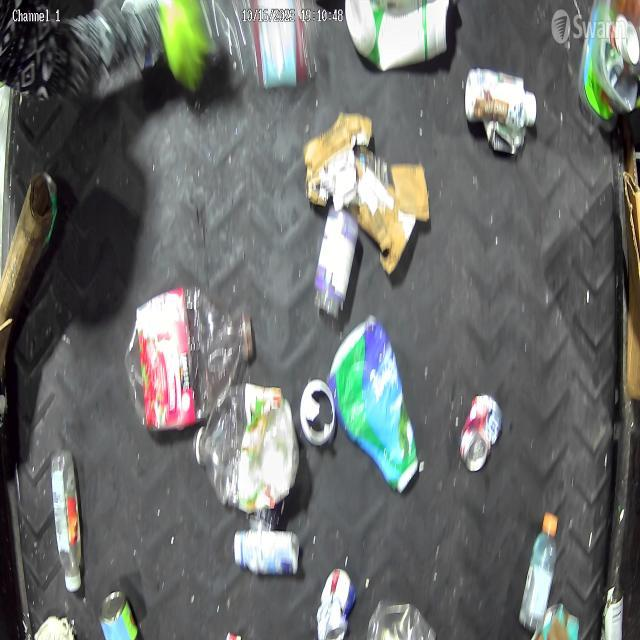can: (458, 391, 504, 473), (316, 565, 358, 640), (299, 377, 339, 450), (96, 586, 140, 640), (602, 582, 624, 640)
non_white_jug: (326, 314, 419, 494), (344, 0, 451, 74)
plastic_bottle: (122, 279, 255, 437), (192, 380, 303, 514), (48, 443, 86, 594), (518, 506, 560, 636)
